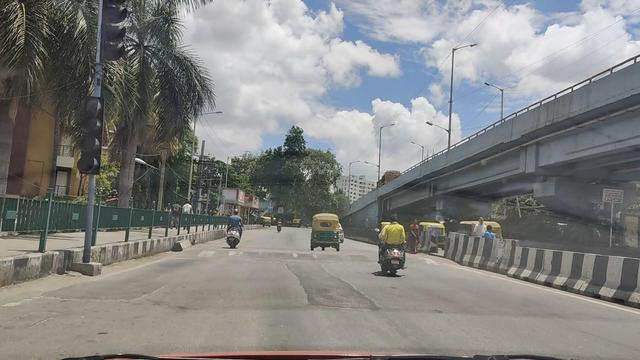LMV: (380, 215, 408, 279), (312, 211, 341, 252), (231, 211, 242, 246)
SpeedBump: (192, 248, 371, 258)
